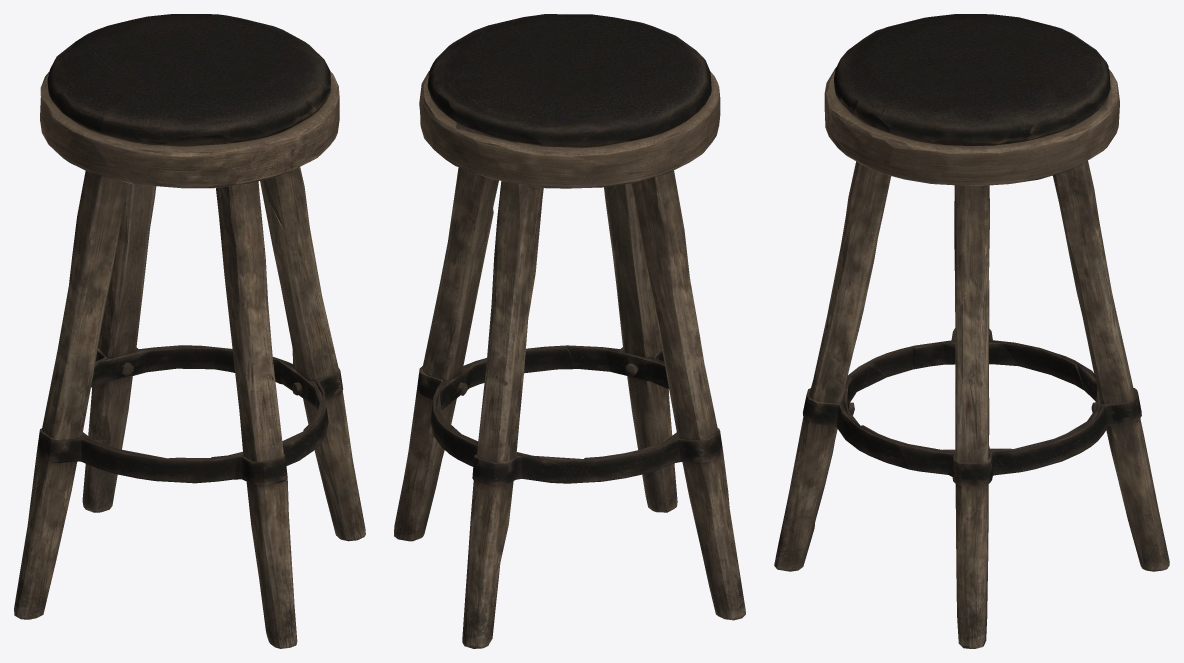
File: sp_m_stool.glb
3 views of the same model, side by side, from view 1: azimuth 30°, elevation 25°; view 2: azimuth 150°, elevation 25°; view 3: azimuth 270°, elevation 25° (orthographic).
Visible parts, largest first — view 1: Mesh_0; view 2: Mesh_0; view 3: Mesh_0.
Part boxes in pixels (<box>): Mesh_0: <box>14,14,365,648</box>; Mesh_0: <box>394,14,745,648</box>; Mesh_0: <box>774,14,1169,648</box>.
Size of the model in its own units: 1.34 by 1.9 by 1.34.
1 material, 1 textured.
